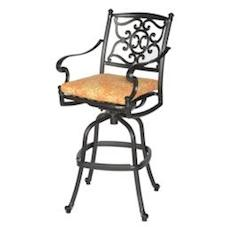chair: (48, 5, 193, 223)
